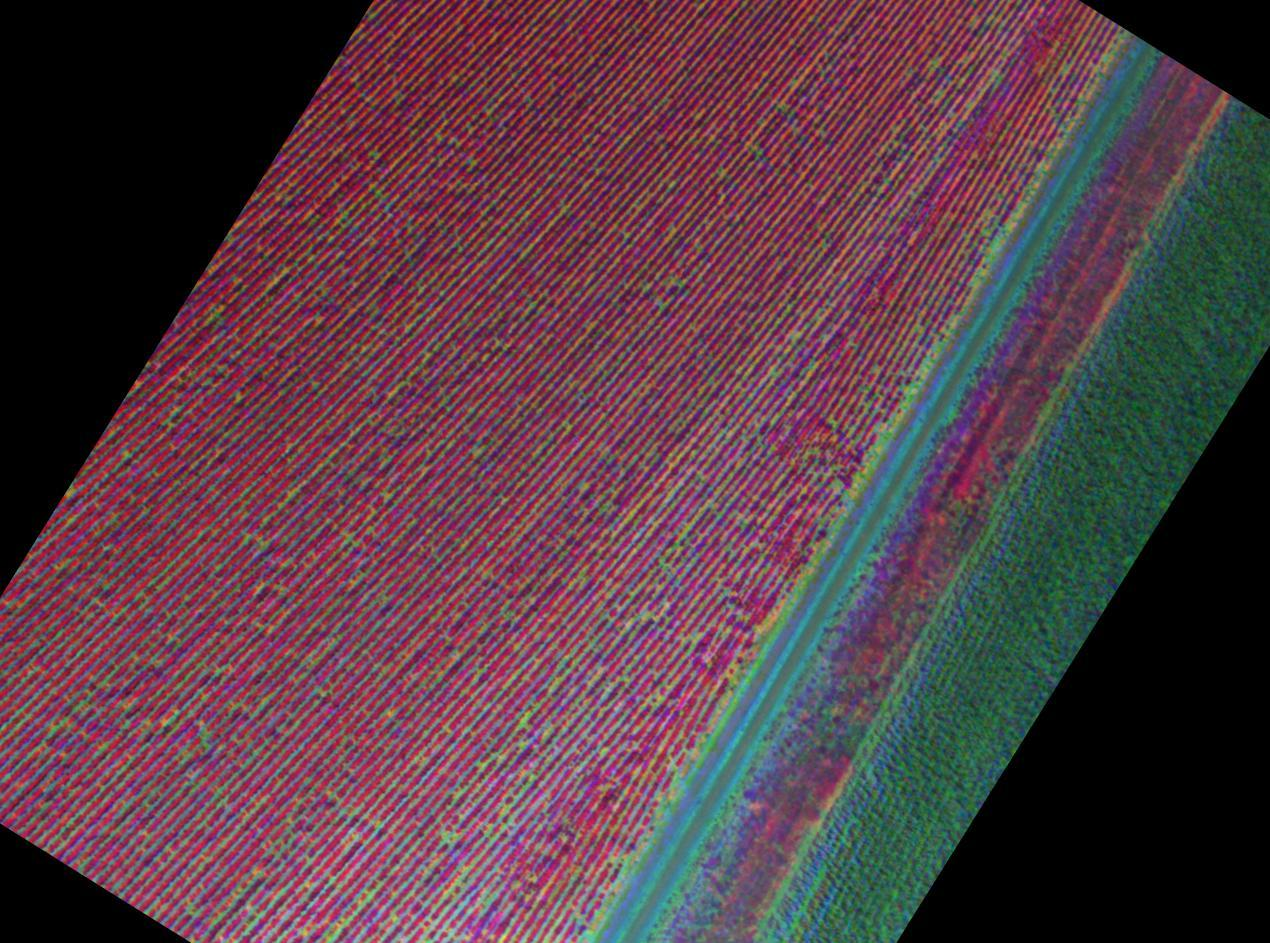dc: (642, 611, 649, 620), (445, 834, 454, 841), (523, 720, 530, 728)
